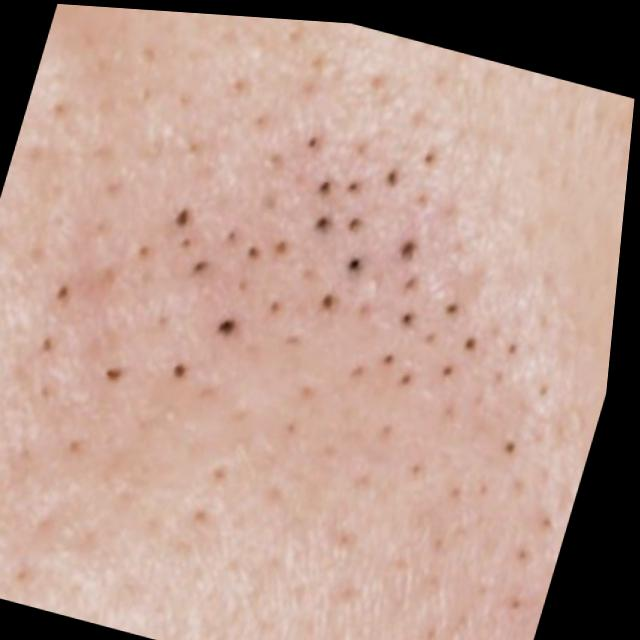blackhead: (33, 62, 570, 493)
